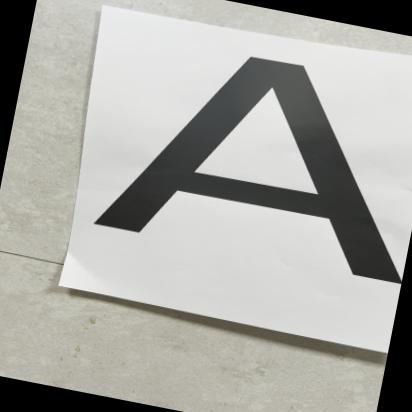seat: (94, 20, 412, 296)
